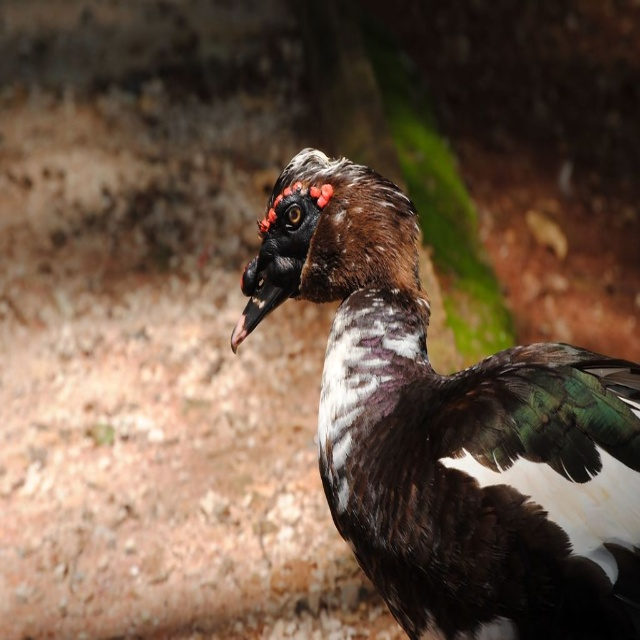Duck: (260, 198, 630, 635)
